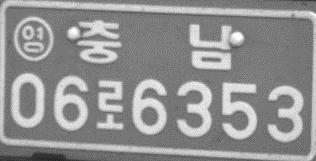0: (9, 71, 45, 130)
3: (174, 80, 213, 138), (266, 85, 304, 144)
5: (220, 81, 258, 140)
6: (131, 77, 168, 136), (52, 74, 89, 132)
로: (96, 78, 125, 131)
영: (12, 16, 54, 63)
충남_D: (76, 18, 235, 71)
